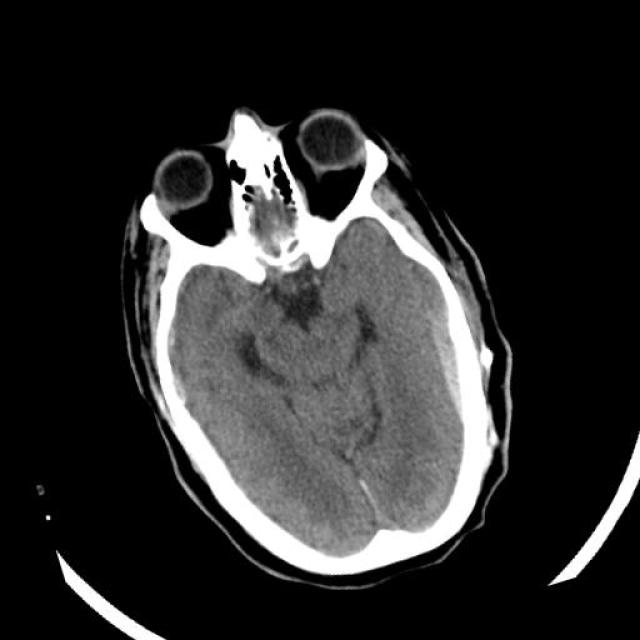Subdural: (387, 253, 512, 455)
